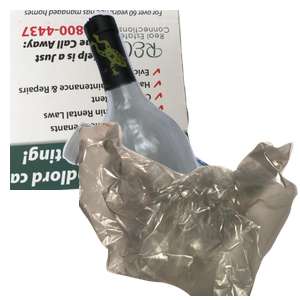glass: (81, 10, 300, 190)
paper: (10, 10, 201, 190)
plastic: (60, 120, 300, 300)
trash: (79, 120, 300, 300)
